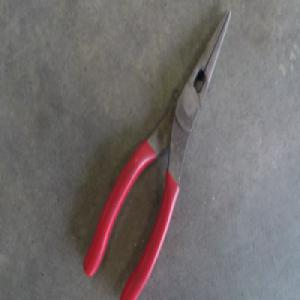Pliers: (81, 18, 229, 296)
